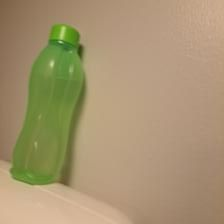bottle: (11, 22, 89, 185)
